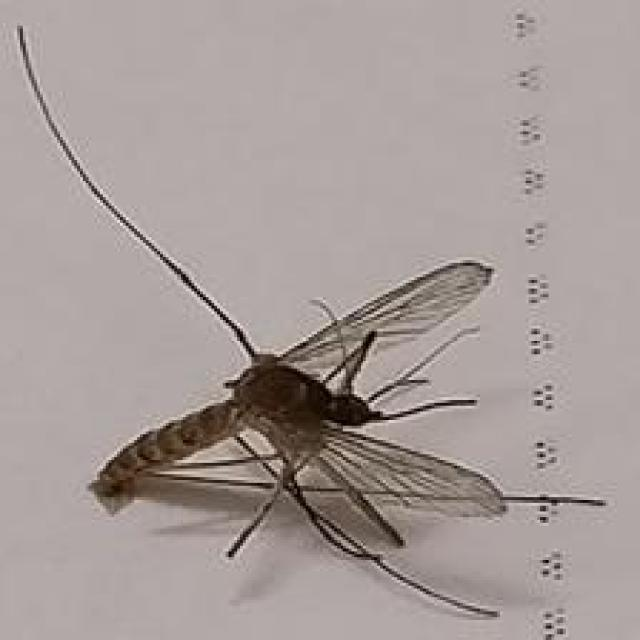Culex: (13, 21, 607, 622)
